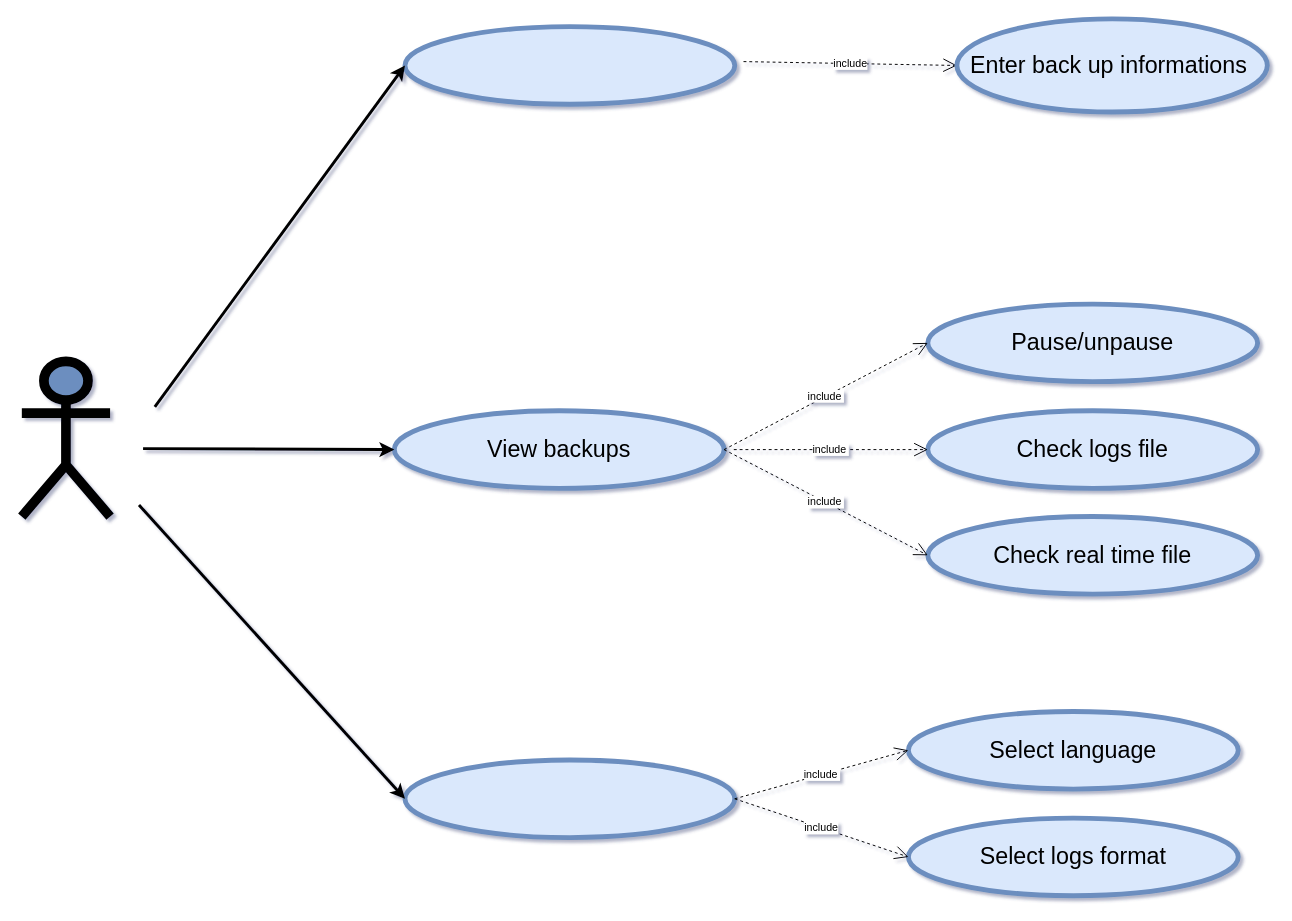
The diagram is 1292 pixels wide and 921 high, and some of its shapes have lost their labels. Here are the shapes that lost their labels. From the top down, the centre of each, then its label:
At point (569, 65): "Create backup".
At point (65, 438): "User".
At point (569, 798): "Configure settings".
